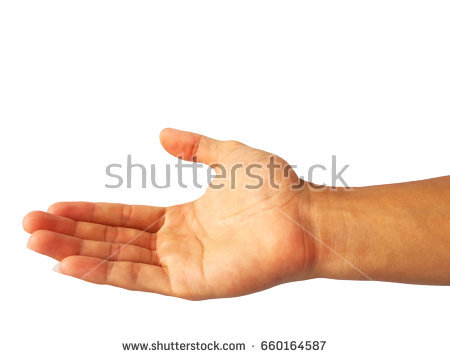palm: (164, 196, 299, 299)
